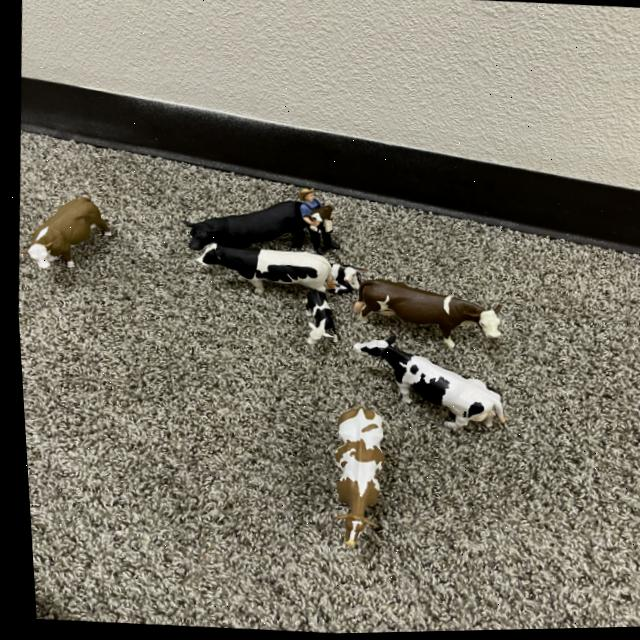cow: (334, 332, 511, 448), (345, 275, 502, 359), (10, 189, 114, 287), (180, 199, 308, 269), (189, 242, 334, 302), (326, 409, 379, 549), (300, 291, 333, 345), (326, 261, 356, 295), (304, 204, 330, 233)
person: (287, 184, 319, 207)
